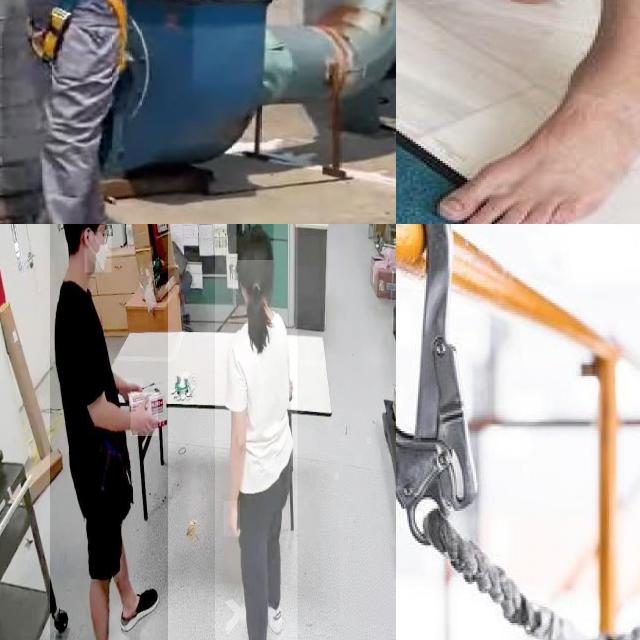Harness: (14, 0, 131, 84)
face_mask: (85, 232, 112, 272)
hand_noglove: (130, 392, 158, 437), (223, 501, 240, 537), (119, 378, 143, 402)
head_nohelmet: (236, 224, 273, 261)
person: (49, 224, 168, 640), (215, 224, 298, 640)
shoes: (116, 586, 162, 634)
